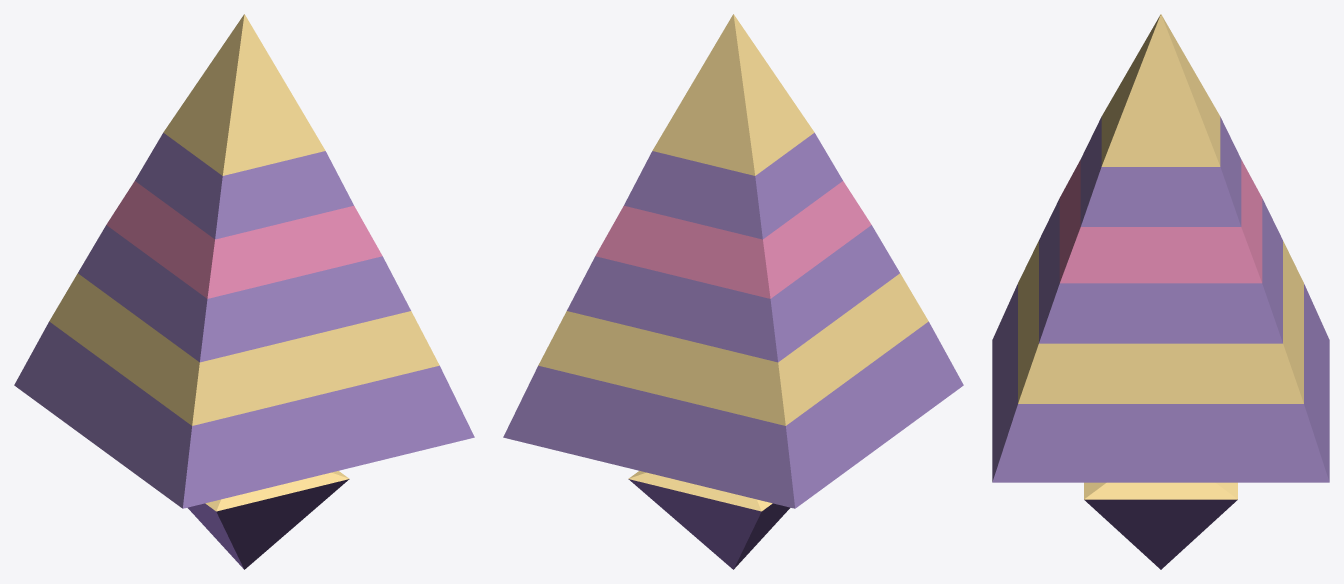
The model's file is prism.glb.
The picture shows the model from 3 angles, left to right: view 1: azimuth 30°, elevation 25°; view 2: azimuth 150°, elevation 25°; view 3: azimuth 270°, elevation 25°; orthographic projection.
Visible parts, largest first — view 1: Striped crown, Counterweight; view 2: Striped crown, Counterweight; view 3: Striped crown, Counterweight.
Boxes of the visible parts, x1,y1,x2,y2 form: Striped crown: (14, 14, 474, 508); Counterweight: (187, 471, 349, 569); Striped crown: (503, 14, 963, 508); Counterweight: (628, 471, 790, 569); Striped crown: (992, 14, 1329, 482); Counterweight: (1084, 482, 1237, 569).
Bounding box in the file's own units: 1.48 × 2.7 × 1.48.
